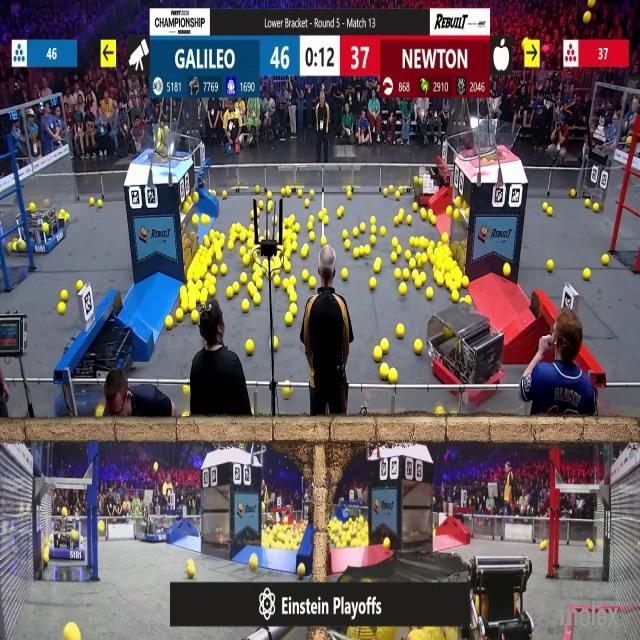ball_airborne: (584, 11, 592, 23), (589, 0, 596, 9), (152, 462, 158, 472), (62, 509, 68, 518)
ball_ground: (65, 624, 79, 640), (186, 562, 195, 578), (250, 555, 258, 570), (414, 341, 422, 355), (296, 563, 304, 577), (381, 340, 389, 354), (96, 408, 105, 420), (381, 363, 388, 378), (389, 368, 397, 381), (166, 316, 174, 329), (502, 265, 510, 278), (246, 341, 253, 355), (375, 347, 382, 361), (59, 303, 67, 315), (452, 290, 460, 302), (396, 324, 403, 337), (248, 283, 255, 296), (584, 269, 592, 280), (274, 276, 282, 287), (426, 287, 433, 299), (243, 301, 250, 313), (190, 312, 197, 324), (176, 310, 183, 322), (253, 293, 260, 305), (420, 208, 427, 220), (98, 521, 105, 533), (394, 270, 402, 280), (398, 284, 406, 294), (202, 214, 210, 224), (282, 278, 290, 288), (448, 280, 456, 290), (273, 338, 279, 351), (284, 263, 291, 274), (225, 287, 232, 298), (415, 278, 422, 289), (285, 315, 292, 326), (182, 385, 189, 396), (443, 233, 450, 244), (302, 247, 309, 258), (546, 261, 552, 273), (241, 273, 247, 285), (235, 282, 241, 294), (43, 552, 49, 564), (384, 538, 390, 550), (602, 254, 609, 264), (342, 270, 349, 280), (289, 292, 296, 302), (243, 255, 250, 265), (435, 408, 442, 418), (420, 238, 427, 248), (188, 301, 195, 311), (208, 275, 215, 285), (369, 278, 375, 289), (290, 305, 296, 316), (402, 270, 408, 281), (212, 266, 218, 277), (256, 279, 262, 290), (338, 207, 344, 218), (62, 290, 68, 301), (395, 248, 401, 259), (417, 259, 423, 270), (359, 246, 366, 255), (406, 250, 413, 259), (186, 281, 193, 290), (421, 254, 428, 263), (209, 286, 215, 296), (462, 278, 468, 288), (220, 266, 226, 276), (310, 278, 316, 288), (375, 264, 381, 274), (291, 242, 297, 252), (76, 280, 82, 290), (359, 222, 365, 232), (303, 271, 309, 281), (215, 251, 221, 261), (420, 272, 426, 282), (594, 203, 600, 213), (439, 276, 445, 286), (191, 214, 197, 224), (186, 272, 192, 282), (456, 198, 462, 208), (201, 292, 207, 302), (205, 238, 211, 248), (264, 258, 270, 268), (410, 262, 417, 270), (284, 250, 291, 258), (180, 285, 187, 293), (393, 216, 399, 225), (370, 224, 376, 233), (570, 188, 576, 197), (413, 271, 419, 280), (345, 241, 351, 250), (290, 277, 296, 286), (258, 201, 264, 210), (309, 233, 315, 242), (252, 273, 258, 282), (284, 387, 290, 396), (240, 234, 246, 243), (192, 273, 198, 282), (282, 231, 288, 240), (206, 256, 212, 265), (391, 252, 396, 262), (381, 225, 386, 235), (354, 248, 359, 258), (392, 238, 397, 248), (370, 236, 375, 246), (408, 215, 413, 225), (269, 202, 274, 212), (448, 207, 453, 217), (284, 217, 289, 227), (464, 295, 470, 303), (308, 222, 314, 230), (369, 216, 375, 224), (227, 242, 233, 250), (343, 232, 349, 240), (540, 541, 546, 549), (394, 190, 400, 198), (290, 234, 296, 242), (429, 216, 435, 224), (247, 240, 253, 248), (254, 185, 260, 193), (252, 264, 258, 272), (288, 285, 294, 293), (195, 280, 201, 288), (546, 207, 551, 216), (241, 246, 246, 255), (411, 238, 416, 247), (294, 223, 299, 232), (250, 210, 255, 219), (289, 215, 294, 224), (219, 239, 224, 248), (221, 190, 227, 197), (276, 250, 282, 257), (286, 188, 292, 195), (353, 230, 358, 238), (323, 216, 328, 224), (98, 200, 103, 208), (586, 200, 591, 208), (268, 190, 273, 198), (589, 542, 594, 550), (413, 204, 418, 212), (377, 256, 382, 264), (383, 188, 388, 196), (433, 272, 438, 280), (65, 213, 70, 221), (321, 237, 325, 246), (542, 203, 546, 212), (308, 216, 313, 223), (249, 223, 254, 230), (281, 188, 286, 195), (311, 190, 316, 197), (91, 199, 95, 207), (348, 190, 352, 198), (297, 189, 301, 197), (306, 201, 310, 208), (256, 209, 260, 216), (399, 209, 403, 216), (322, 208, 326, 215), (276, 216, 280, 223)
goal: (466, 122, 522, 160), (128, 129, 190, 162)
robot_blue: (52, 320, 136, 413), (25, 204, 67, 254), (52, 514, 84, 560), (138, 516, 168, 542)
robot_red: (432, 316, 507, 398), (410, 164, 450, 206)
